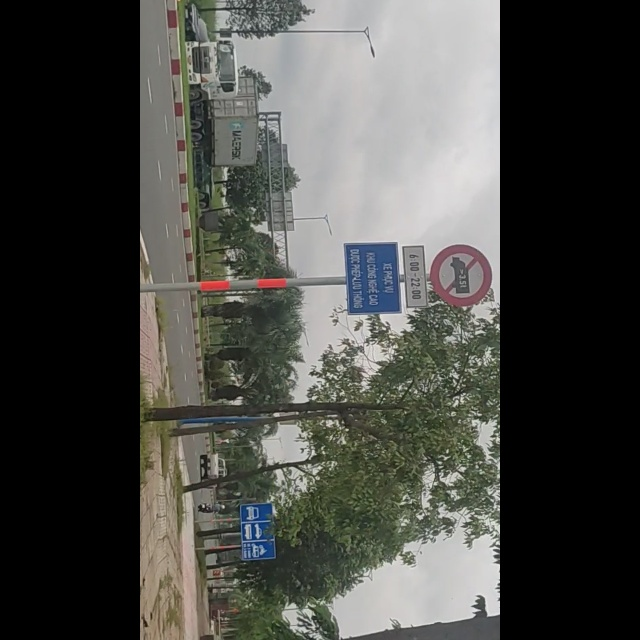bien_chi_dan: (518, 243, 623, 307)
